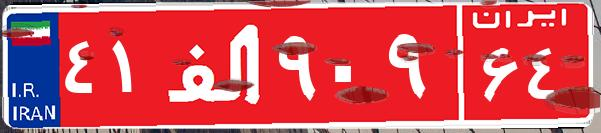0: (330, 28, 385, 110)
1: (110, 28, 158, 105)
4: (57, 26, 110, 107), (525, 38, 570, 115)
6: (475, 38, 525, 113)
9: (385, 28, 445, 110), (273, 28, 330, 110)
الف: (158, 15, 273, 115)
